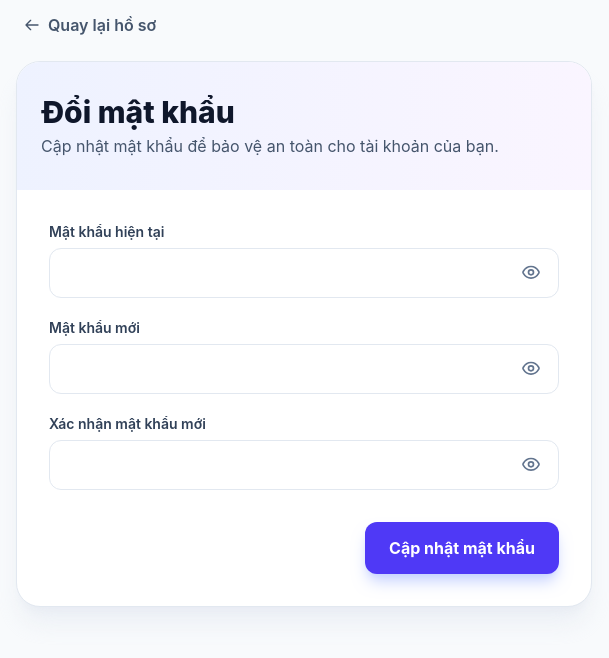
Test: Password Recovery & Management UI Tests › ChangePasswordPage › hiển thị đầy đủ label, autocomplete và validation mật khẩu mới trùng mật khẩu cũ / mismatch
Type "OldPass123" into the password field labelled "Mật khẩu hiện tại".
click(304, 273); type("OldPass123")  # box [49, 248, 559, 298]
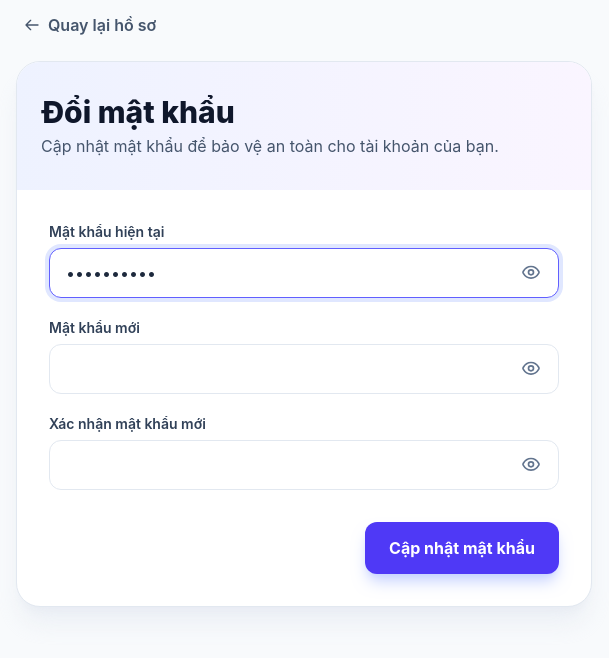
Type "OldPass123" into the password field labelled "Mật khẩu mới".
click(304, 369); type("OldPass123")  # box [49, 344, 559, 394]
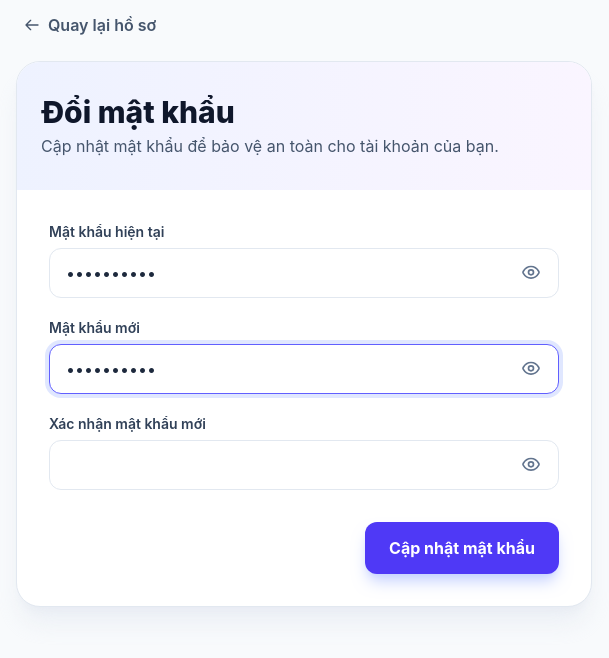
Type "OldPass123" into the password field labelled "Xác nhận mật khẩu mới".
click(304, 465); type("OldPass123")  # box [49, 440, 559, 490]
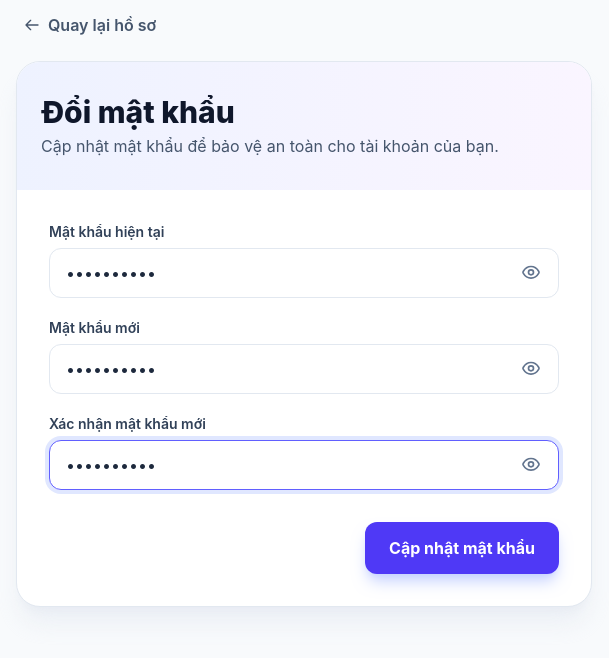
Click the button "Cập nhật mật khẩu".
click(462, 548)  # box [365, 522, 559, 574]
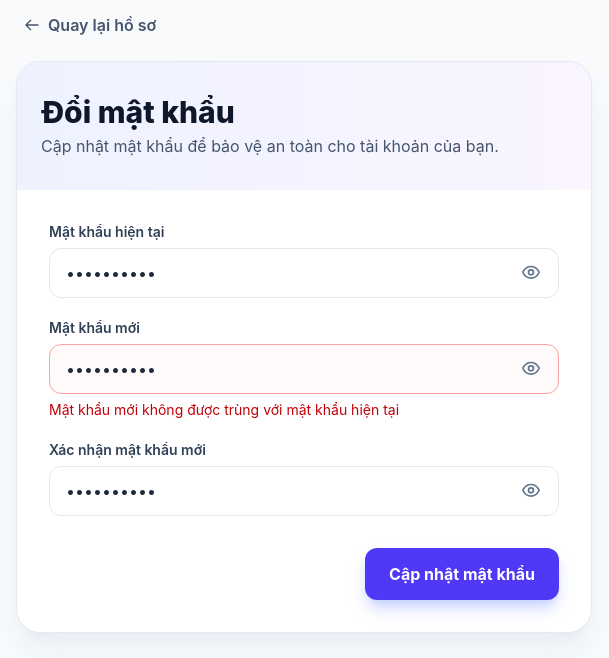
Check: the text "Mật khẩu mới không được trùng với mật khẩu hiện tại" is shown, box [49, 401, 399, 418]
